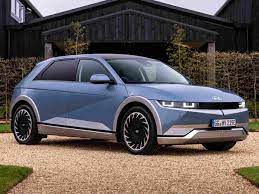Honda Ioniq: (6, 51, 251, 158)
